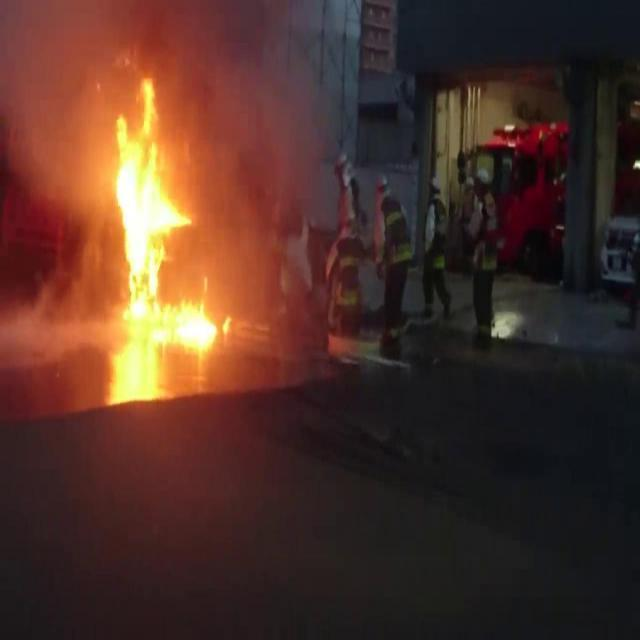Fire: (119, 75, 231, 345)
